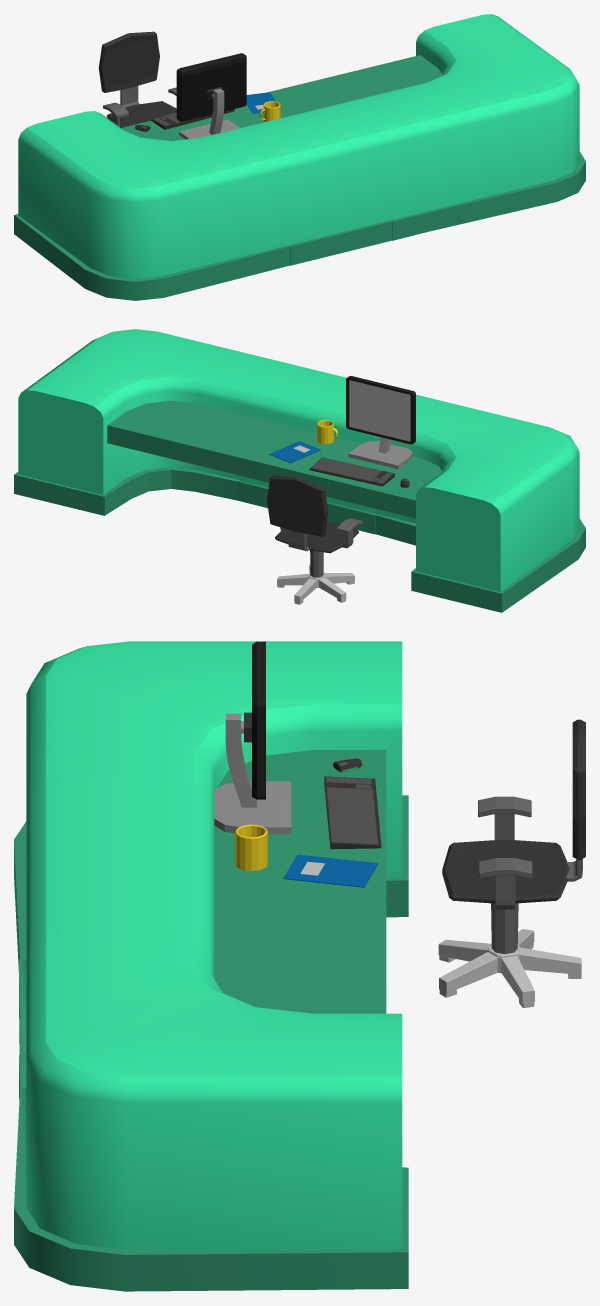
Rendered from counter2.fbx.
3 views of the same model, one above another, from view 1: azimuth 30°, elevation 25°; view 2: azimuth 150°, elevation 25°; view 3: azimuth 270°, elevation 25° (orthographic). The views are drawn at different scales.
Parts seen in each view (by area): view 1: Counter, Table accessories; view 2: Counter, Table accessories; view 3: Counter, Table accessories.
Part boxes in pixels (x1,y1,x2,y2): Counter: (14, 14, 585, 300); Table accessories: (98, 31, 281, 139); Counter: (14, 329, 585, 612); Table accessories: (267, 376, 415, 604); Counter: (14, 641, 408, 1291); Table accessories: (214, 641, 585, 1007).
Bounding box in the file's own units: 189 × 59.33 × 99.13.
Materials: 1 (1 with a texture image).
